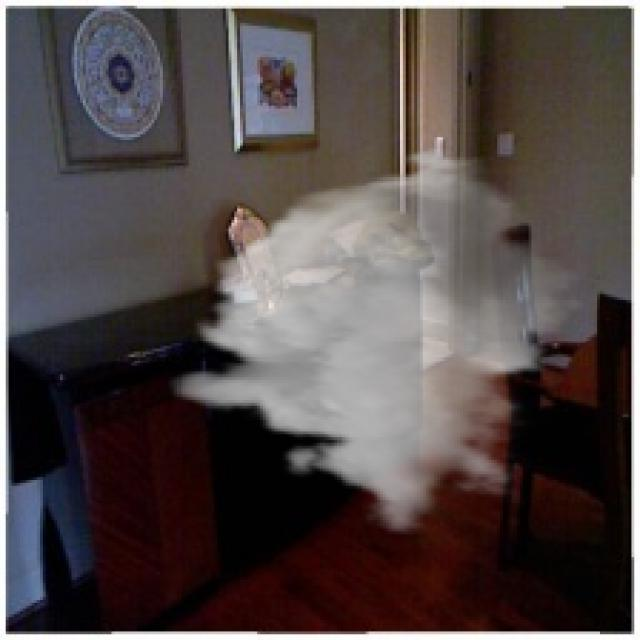Smoke: (168, 142, 594, 534)
